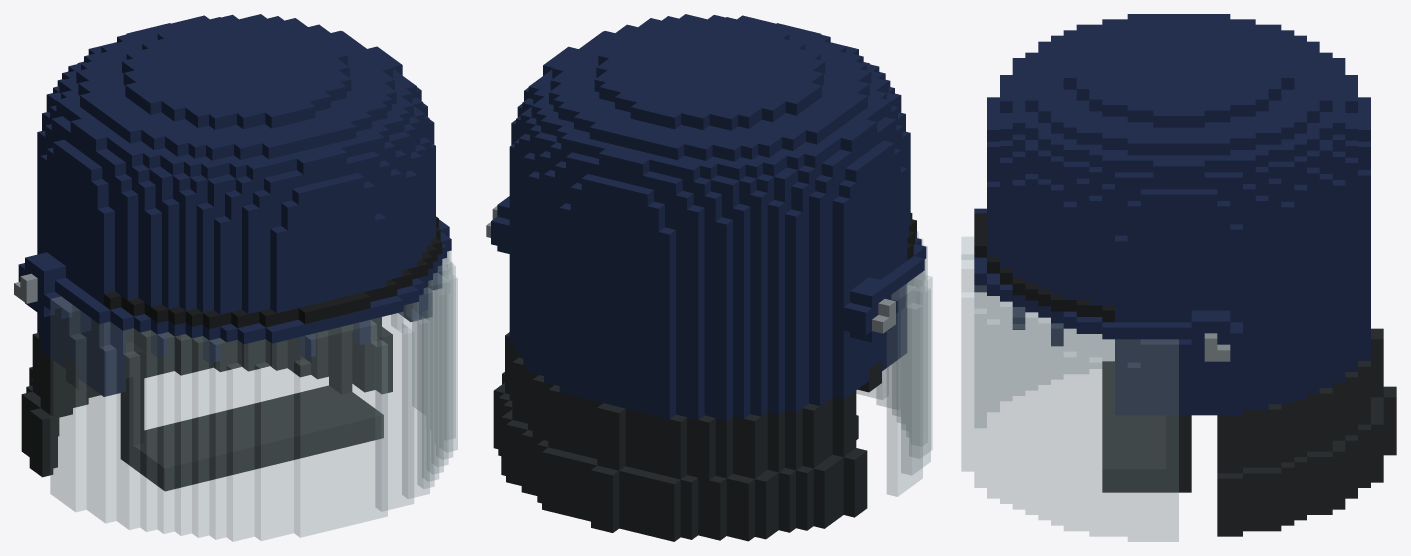
Rendered from riot_helmet.glb.
3 views of the same model, side by side, from view 1: azimuth 30°, elevation 25°; view 2: azimuth 150°, elevation 25°; view 3: azimuth 270°, elevation 25° (orthographic).
Visible parts, largest first — view 1: helmet:compound; view 2: helmet:compound; view 3: helmet:compound.
Boxes of the visible parts, x1=… form: helmet:compound: x1=14, y1=14, x2=457, y2=541; helmet:compound: x1=486, y1=14, x2=932, y2=541; helmet:compound: x1=961, y1=14, x2=1396, y2=541.
Bounding box in the file's own units: 0.36 × 0.33 × 0.34.
